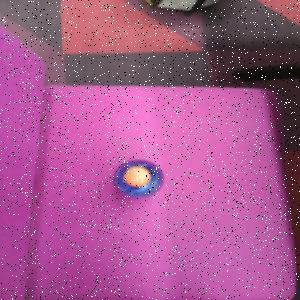Plastic-bottle: (112, 160, 167, 200)
